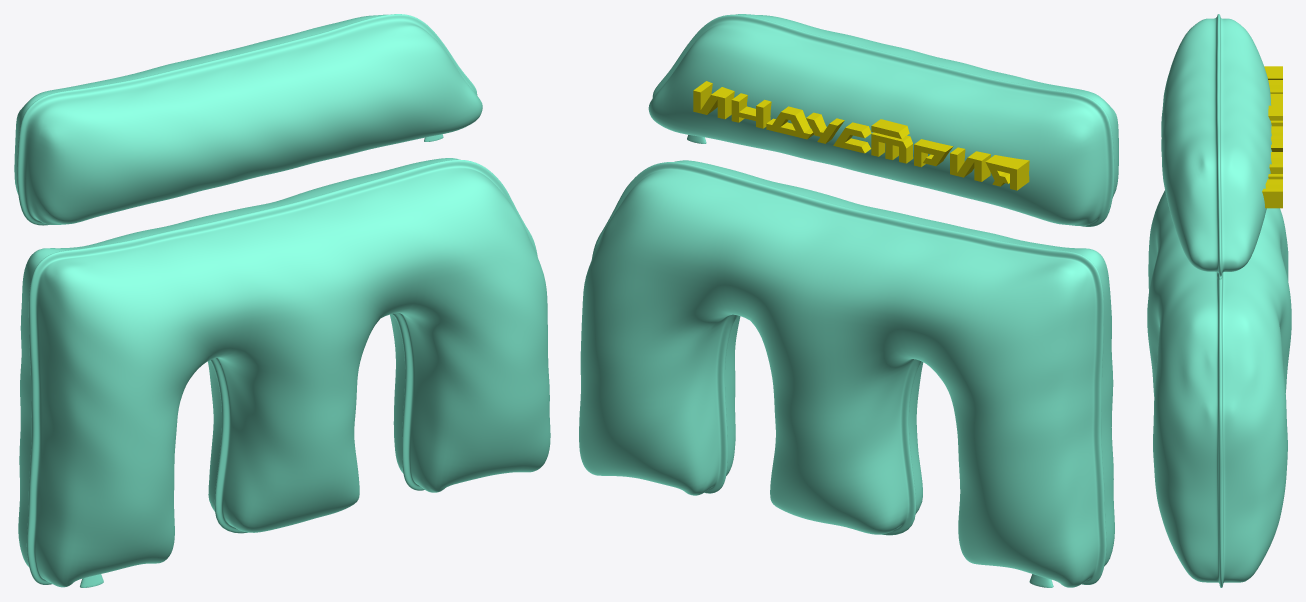
3 renders of one model, left to right at view 1: azimuth 30°, elevation 25°; view 2: azimuth 150°, elevation 25°; view 3: azimuth 270°, elevation 25°, orthographic. The views are drawn at different scales.
Visible parts, largest first — view 1: Inflatable_letter.001; view 2: Inflatable_letter.001, Curve; view 3: Inflatable_letter.001, Curve.
Part boxes in pixels (x1=…): Inflatable_letter.001: x1=14, y1=14, x2=550, y2=587; Inflatable_letter.001: x1=579, y1=14, x2=1118, y2=587; Curve: x1=693, y1=81, x2=1029, y2=190; Inflatable_letter.001: x1=1147, y1=14, x2=1291, y2=587; Curve: x1=1262, y1=66, x2=1282, y2=208.
Bounding box in the file's own units: 207 × 188 × 62.08.
